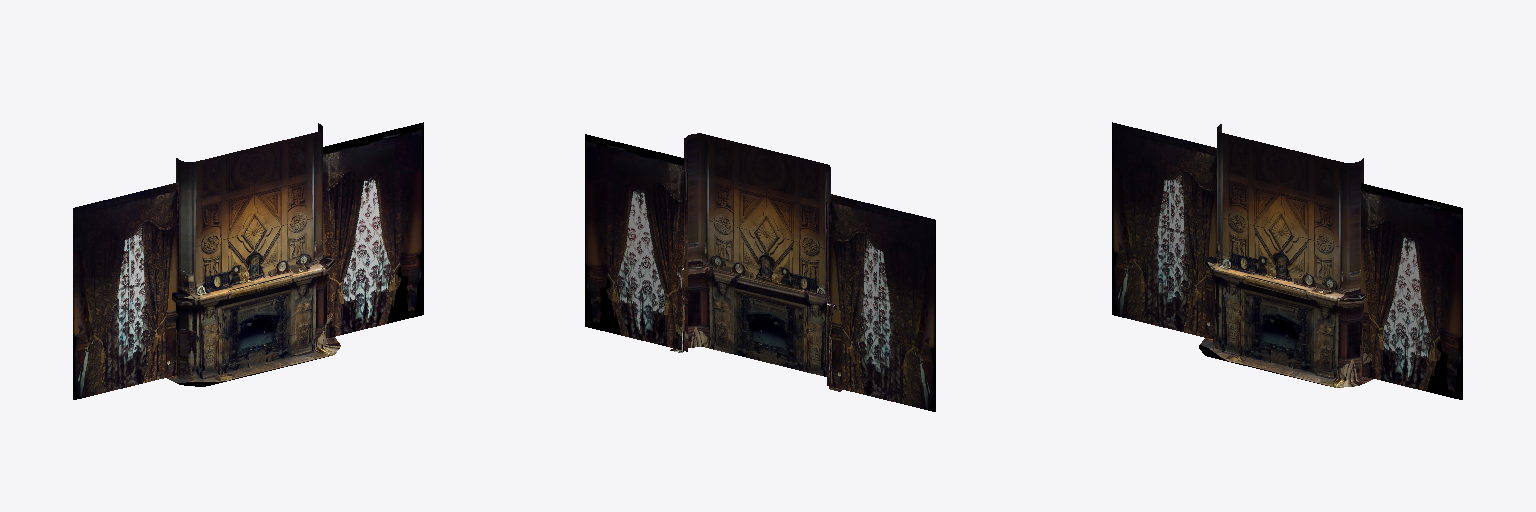
The picture shows the model from 3 angles: view 1: azimuth 30°, elevation 25°; view 2: azimuth 150°, elevation 25°; view 3: azimuth 330°, elevation 25°; orthographic projection.
Visible parts, largest first — view 1: LivingRoom_GEO_GRP_LivingRoom_Wall_Right; view 2: LivingRoom_GEO_GRP_LivingRoom_Wall_Right; view 3: LivingRoom_GEO_GRP_LivingRoom_Wall_Right.
Part boxes in pixels (bbox=[...]): LivingRoom_GEO_GRP_LivingRoom_Wall_Right: bbox=[73, 122, 423, 399]; LivingRoom_GEO_GRP_LivingRoom_Wall_Right: bbox=[585, 133, 935, 411]; LivingRoom_GEO_GRP_LivingRoom_Wall_Right: bbox=[1112, 122, 1462, 399].
Size of the model in its own units: 6.48 by 3.8 by 0.7036.
1 materials, 1 textured.